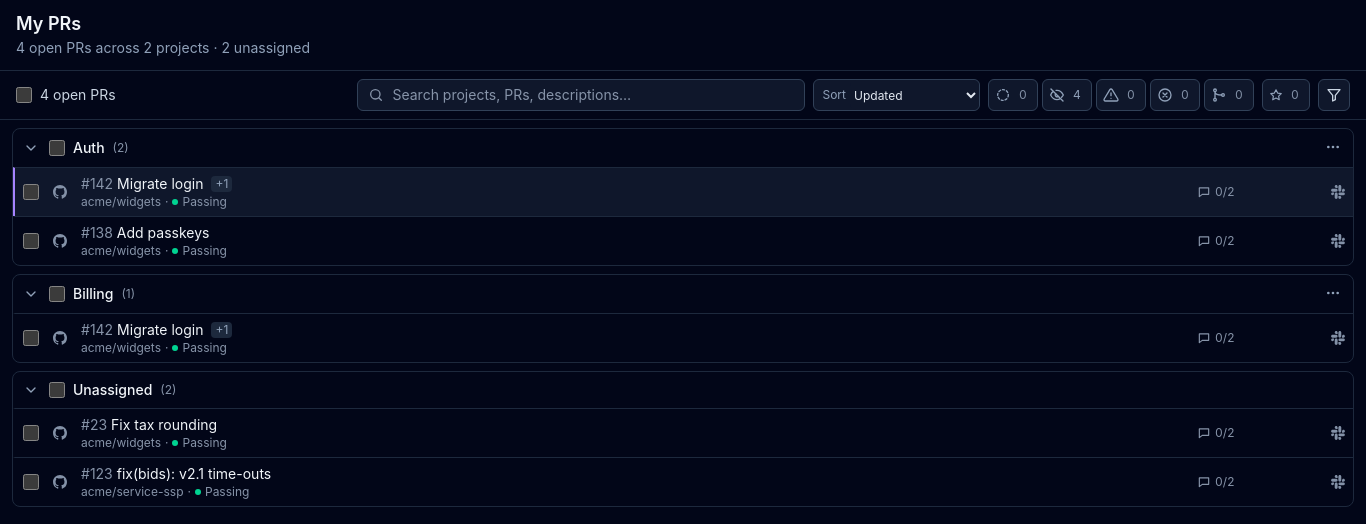
Test: an empty search points to the view and the closed rows that match
In the field labelled "Search": (594, 95) [392, 85, 794, 105], type "floor"
Wait 200 ms
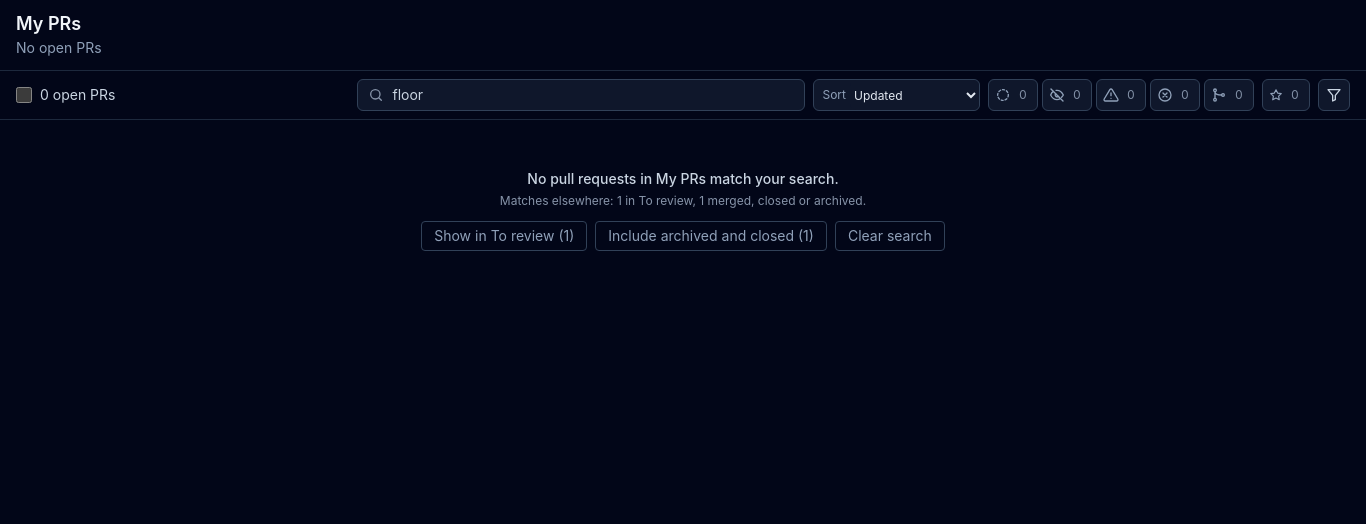
expect the text "No pull requests in My PRs match your search." is shown: met, box [527, 170, 839, 187]
expect the text "Matches elsewhere: 1 in To review, 1 merged, closed or archived." is shown: met, box [500, 193, 866, 208]
Click the button "Include archived and closed (1)": (711, 236) [595, 221, 827, 251]
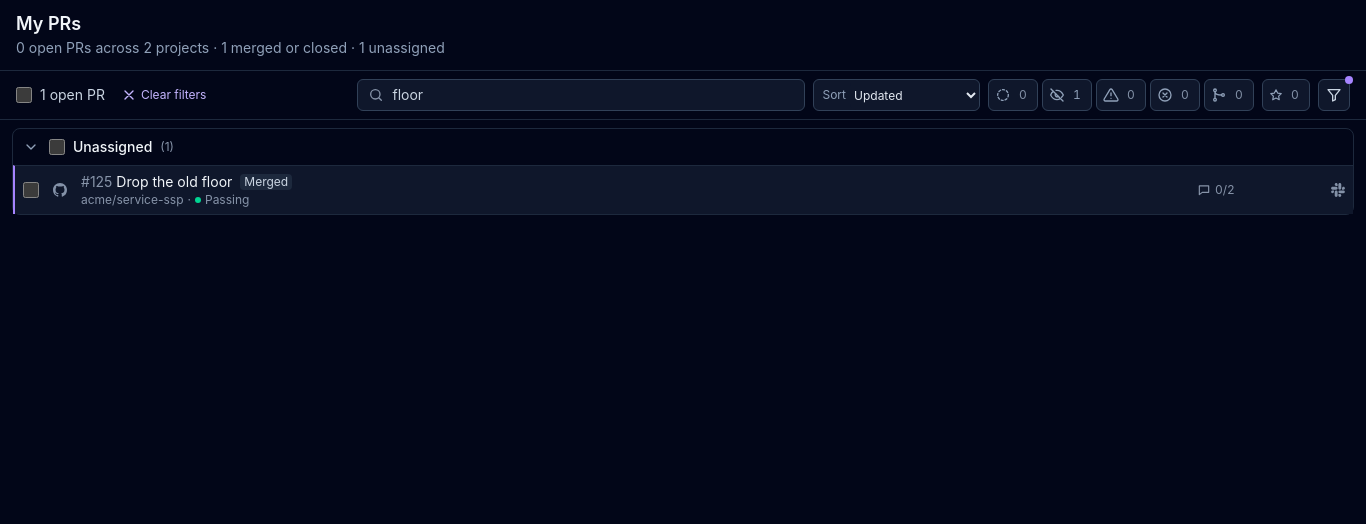
expect the button "#125 Drop the old floor" is shown: met, box [81, 172, 232, 192]
Replace the text in the field named "Search" with "tune floor": (594, 95) [392, 85, 794, 105]
Wait 200 ms
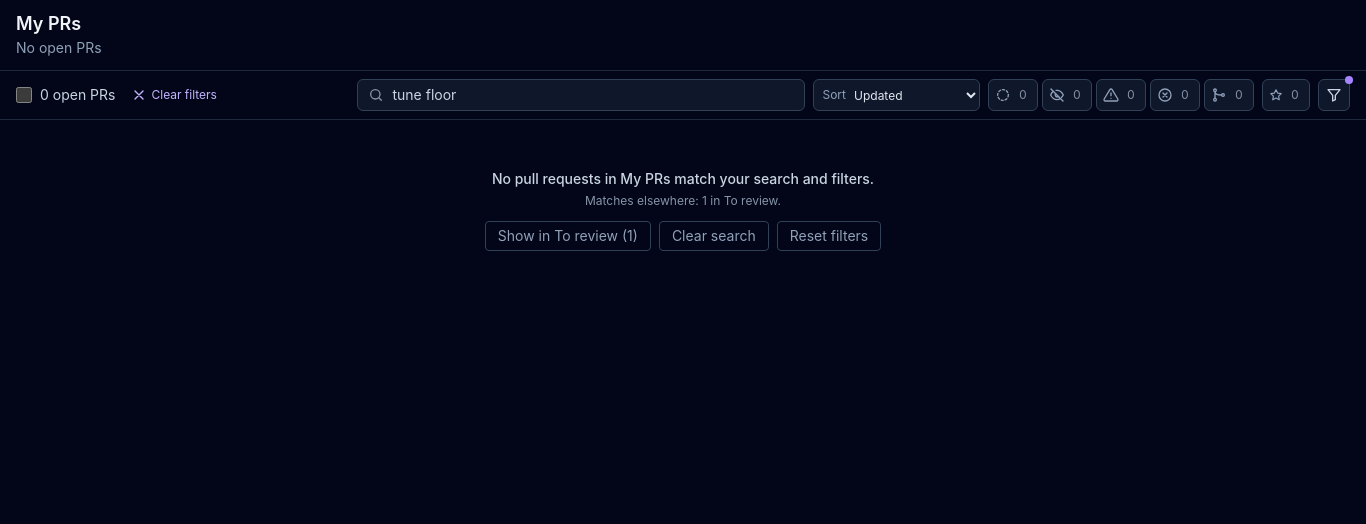
Click the button "Show in To review (1)": (568, 236) [485, 221, 651, 251]
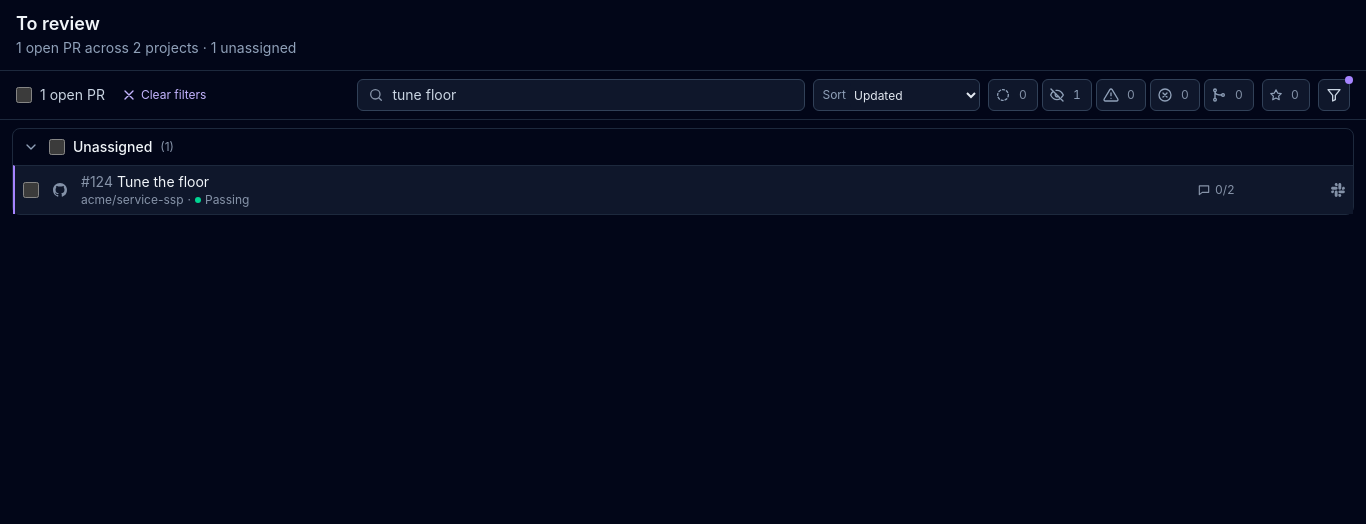
expect the button "#124 Tune the floor" is shown: met, box [81, 172, 209, 192]
